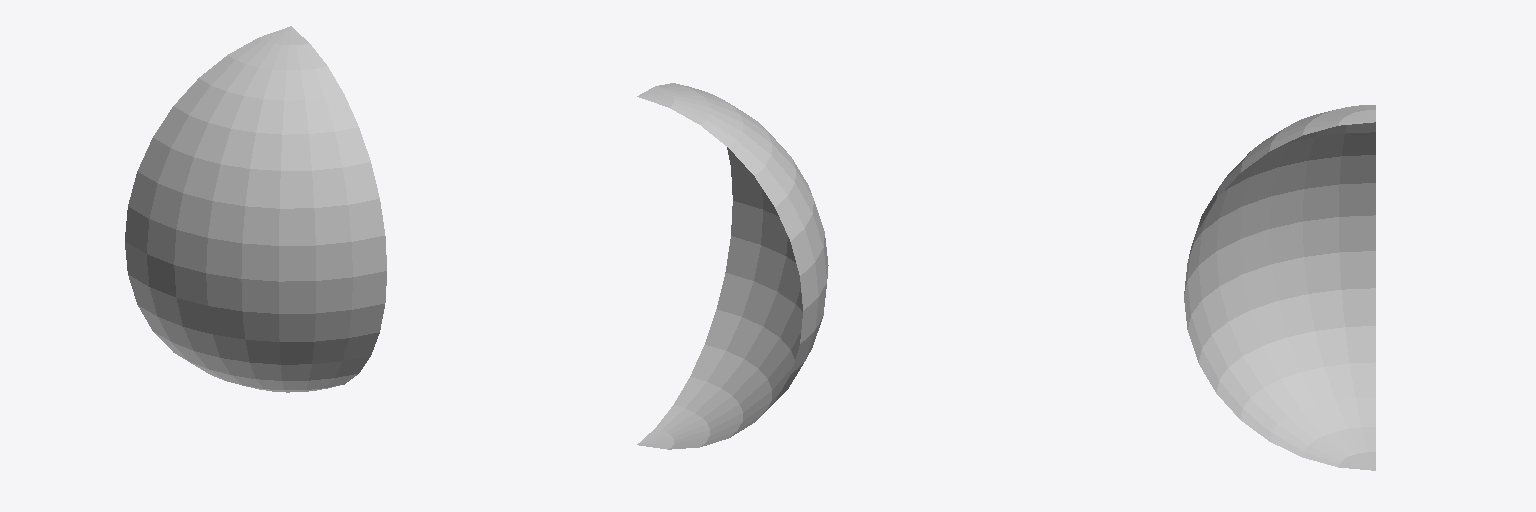
The model's file is halfSphere180.obj.
3 renders of one model, left to right at view 1: azimuth 30°, elevation 25°; view 2: azimuth 150°, elevation 25°; view 3: azimuth 270°, elevation 25°, orthographic.
Parts seen in each view (by area): view 1: Sphere; view 2: Sphere; view 3: Sphere.
Part boxes in pixels (x1,y1,x2,y2): Sphere: (125,26,386,392); Sphere: (637,83,828,449); Sphere: (1184,105,1375,470).
Size of the model in its own units: 0.5 by 1 by 0.5.